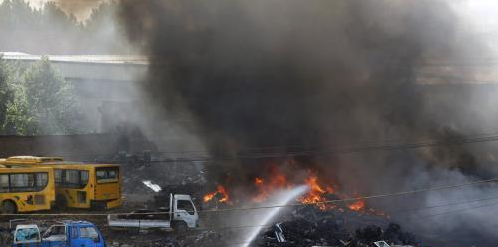喷灌水雾: (219, 183, 309, 247)
